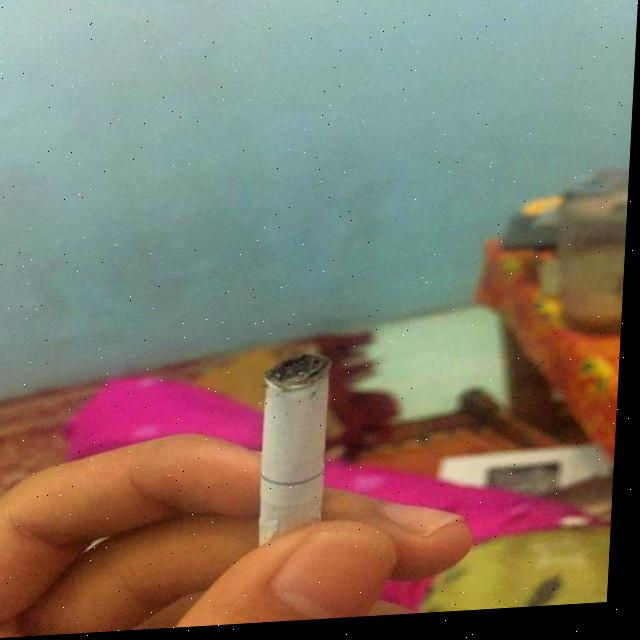cigarette: (261, 351, 340, 549)
